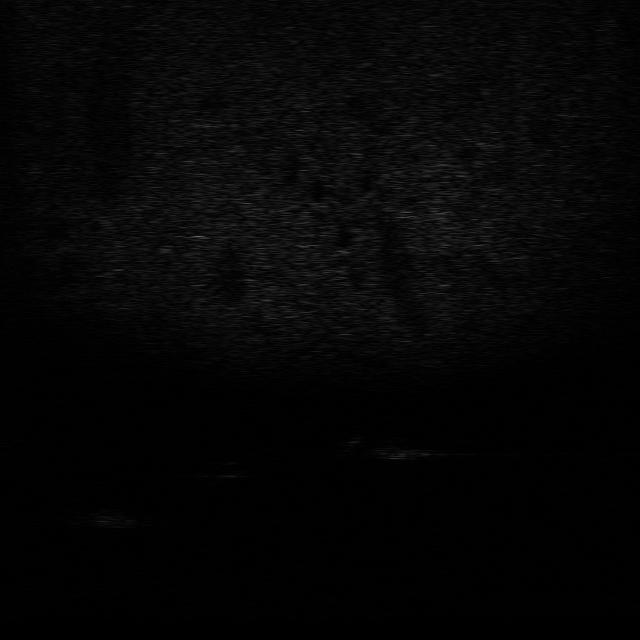ball: (203, 458, 255, 480)
circle cage: (62, 502, 142, 530)
human body: (329, 434, 439, 463)
